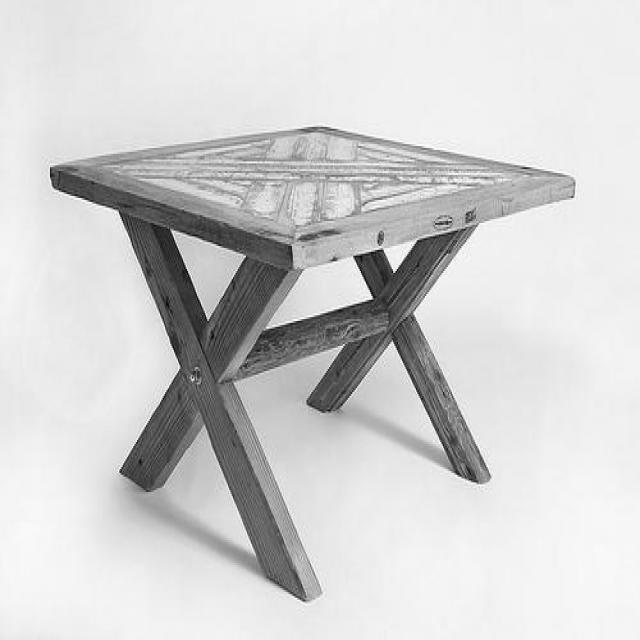table: (48, 121, 576, 600)
